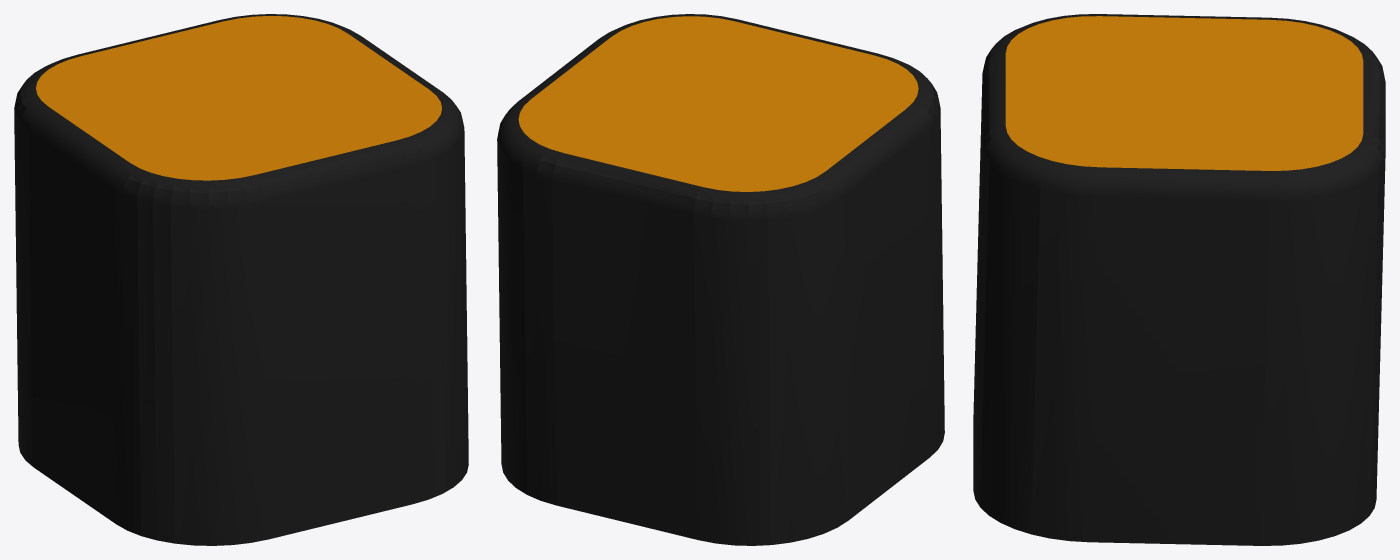
The model's file is center-cubie.glb.
3 views of the same model, side by side, from view 1: azimuth 30°, elevation 25°; view 2: azimuth 150°, elevation 25°; view 3: azimuth 270°, elevation 25° (orthographic). The views are drawn at different scales.
Visible parts, largest first — view 1: center-cubie.003; view 2: center-cubie.003; view 3: center-cubie.003.
Boxes of the visible parts, bbox=[...] form: center-cubie.003: bbox=[14, 14, 468, 545]; center-cubie.003: bbox=[497, 14, 944, 545]; center-cubie.003: bbox=[973, 14, 1385, 545].
Bounding box in the file's own units: 40 × 40.89 × 40.89.
